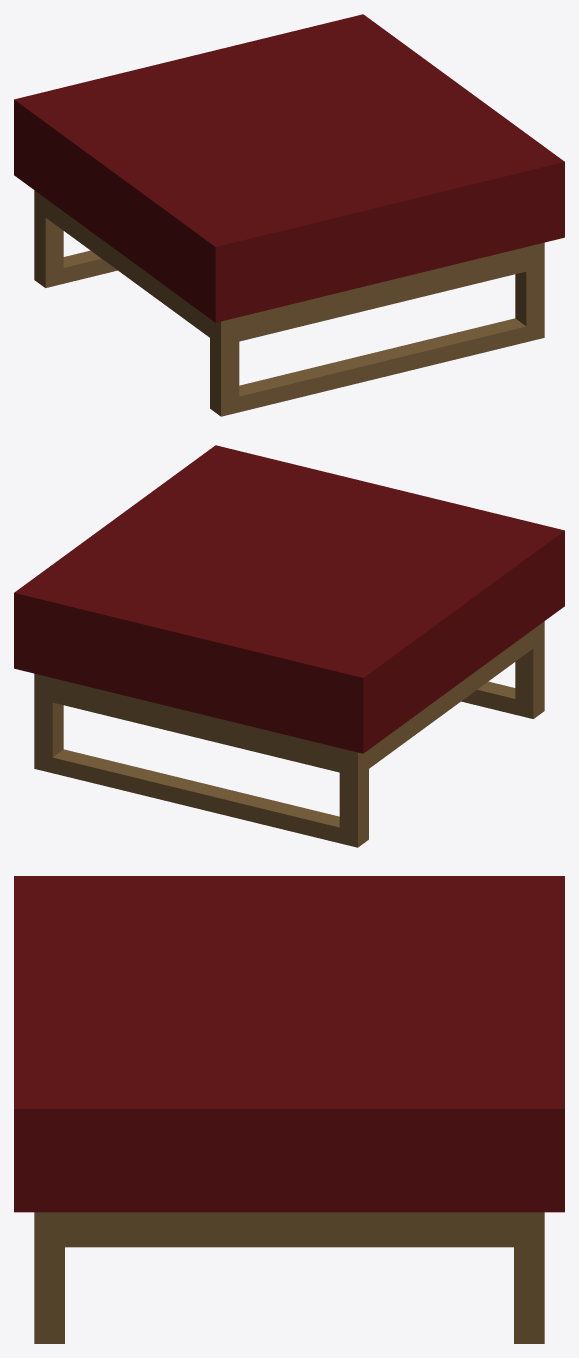
File: Chair.fbx
3 renders of one model, top to bottom at view 1: azimuth 30°, elevation 25°; view 2: azimuth 150°, elevation 25°; view 3: azimuth 270°, elevation 25°, orthographic. The views are drawn at different scales.
Parts seen in each view (by area): view 1: Cube.003; view 2: Cube.003; view 3: Cube.003.
Boxes of the visible parts, box(x1,y1,x2,y2) form: Cube.003: box(14, 14, 564, 416); Cube.003: box(14, 445, 564, 847); Cube.003: box(14, 876, 564, 1343).
Bounding box in the file's own units: 144 × 70.17 × 144.
